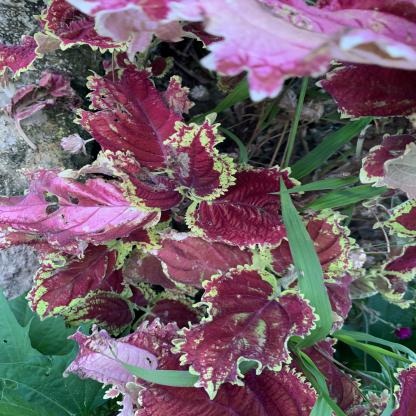Bunga Coleus: (30, 21, 384, 374)
